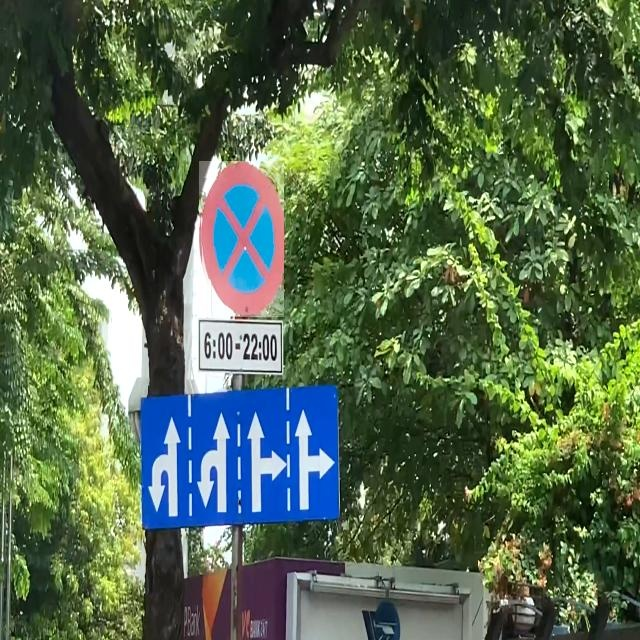bien_cam: (199, 161, 284, 317)
